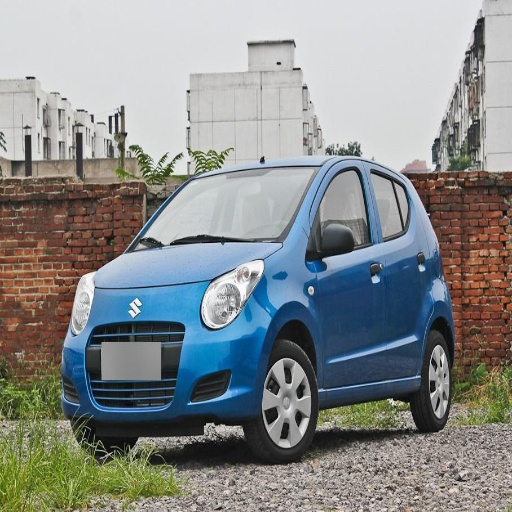back_bumper: (62, 343, 165, 433)
back_glass: (132, 200, 190, 249)
front_bumper: (69, 281, 270, 423)
front_glass: (178, 170, 314, 241)
front_left_door: (309, 163, 388, 388)
